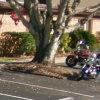Motorcycle: (66, 40, 100, 79)
